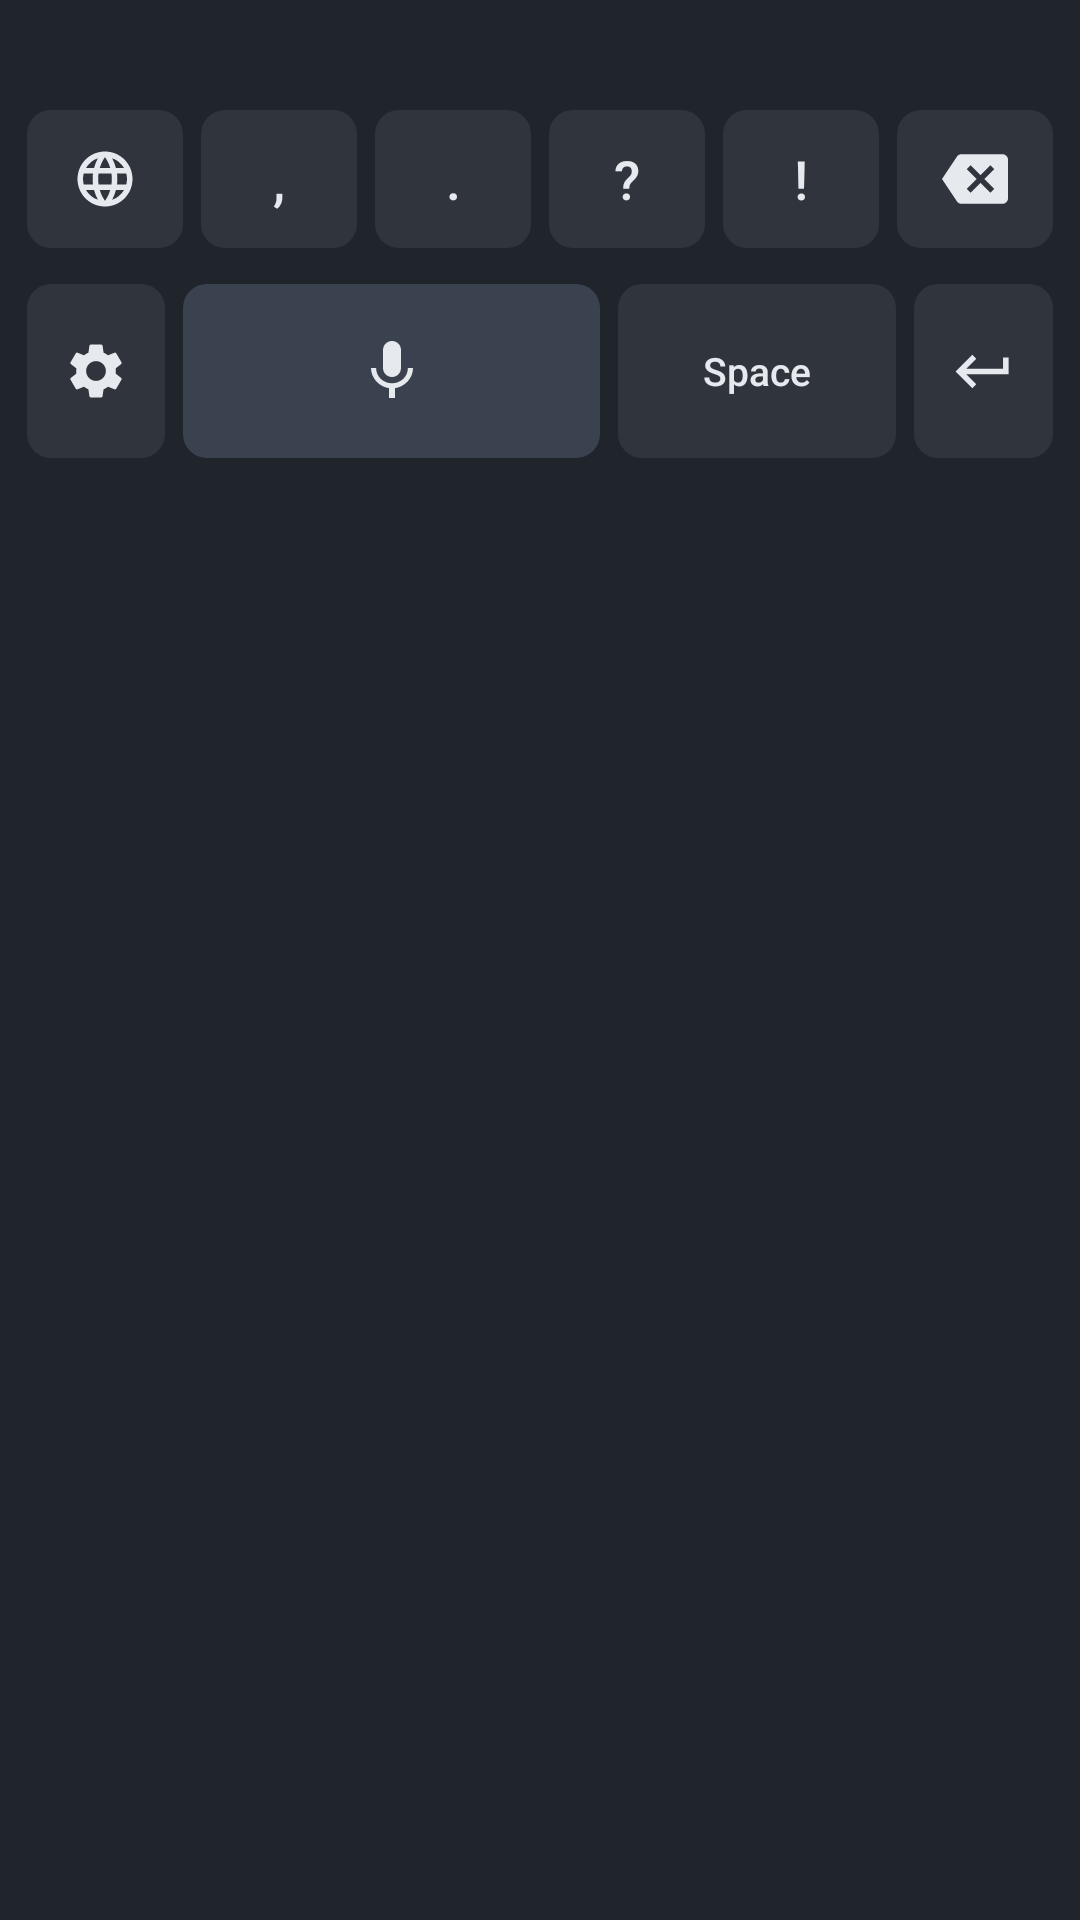

Icon bounding boxes for this 1080x1920 phone screenshot, format (x1, y1, x2, y2):
Enter: (914, 284, 1053, 458)
Settings: (70, 344, 122, 398)
Switch keyboard: (77, 151, 133, 207)
